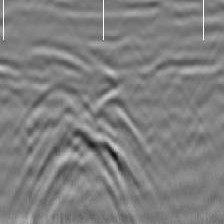Utility: (24, 78, 149, 212)
